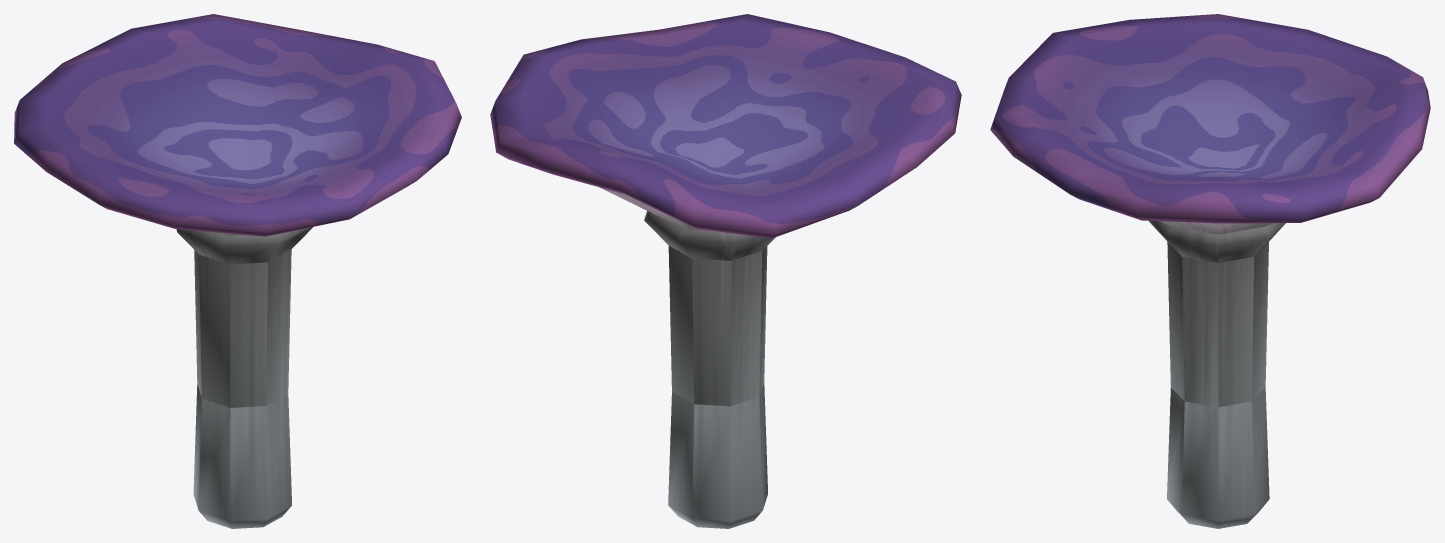
File: VEG0110001.fbx
3 renders of one model, left to right at view 1: azimuth 30°, elevation 25°; view 2: azimuth 150°, elevation 25°; view 3: azimuth 270°, elevation 25°, orthographic.
Visible parts, largest first — view 1: smVEG0110001; view 2: smVEG0110001; view 3: smVEG0110001.
Boxes of the visible parts, x1,y1,x2,y2 form: smVEG0110001: (14, 14, 461, 528); smVEG0110001: (490, 14, 961, 528); smVEG0110001: (990, 14, 1430, 528).
Size of the model in its own units: 20.84 by 21.61 by 20.13.
1 material, 1 textured.
